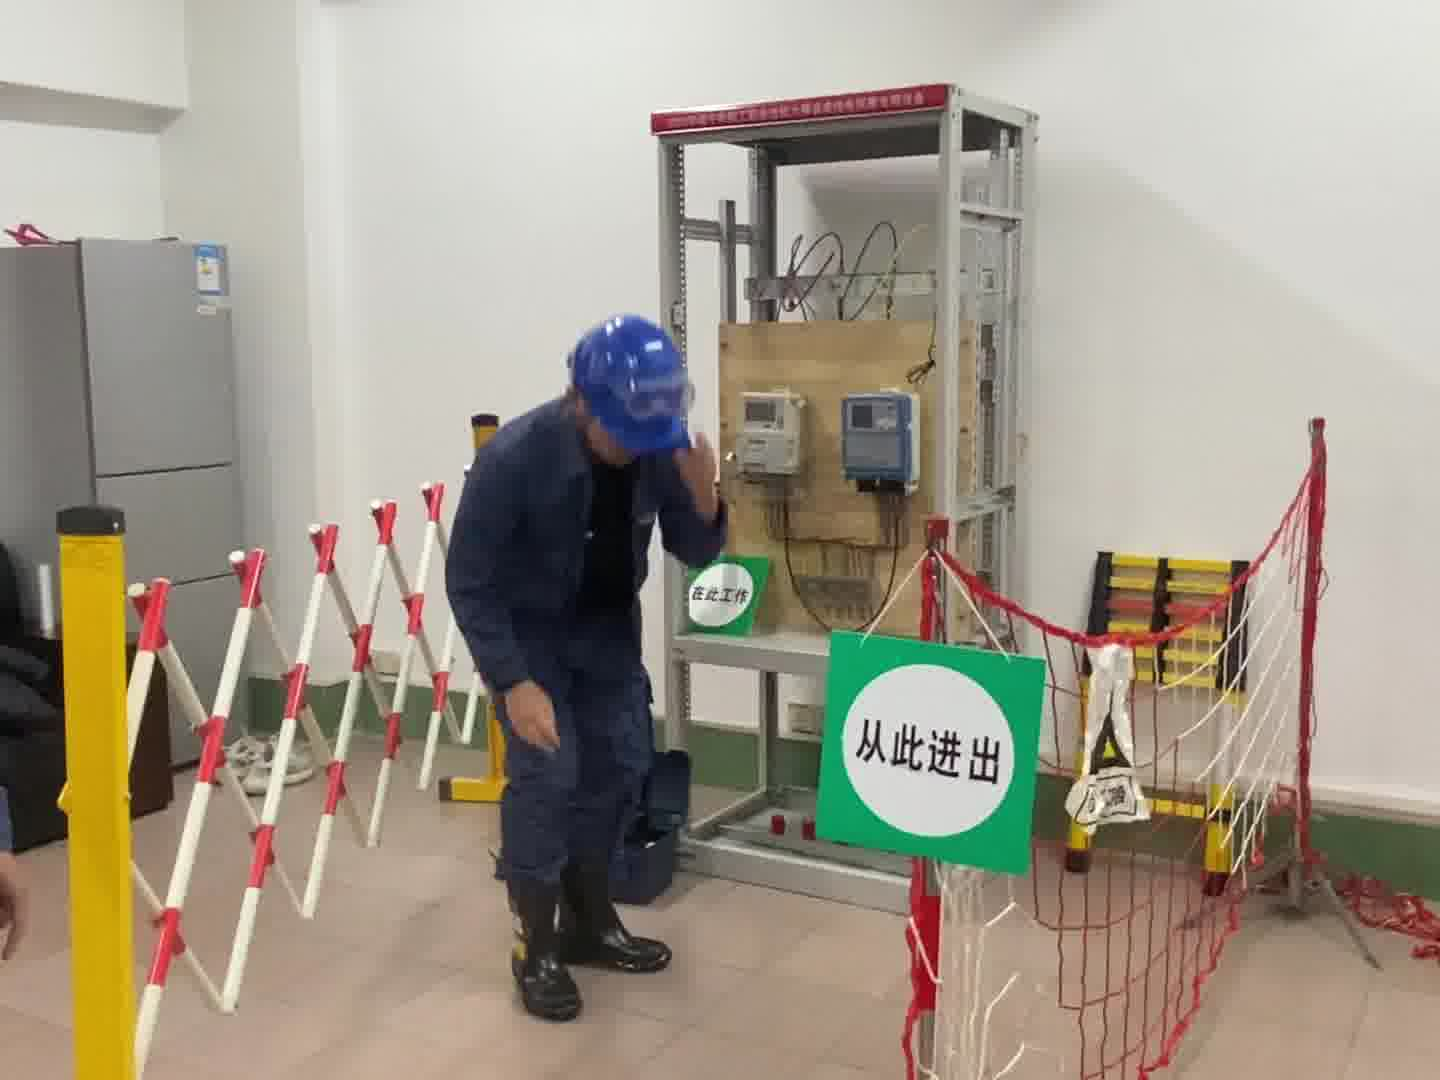downsuit: (497, 693, 654, 858)
halt: (564, 311, 695, 464)
hand: (504, 679, 565, 757), (675, 432, 720, 512)
intosign: (814, 625, 1051, 877)
person: (439, 307, 728, 1011)
shoe: (495, 865, 672, 1021)
upsuit: (443, 394, 733, 682)
worksign: (680, 556, 772, 638)
wrongsuit: (552, 473, 650, 636)
